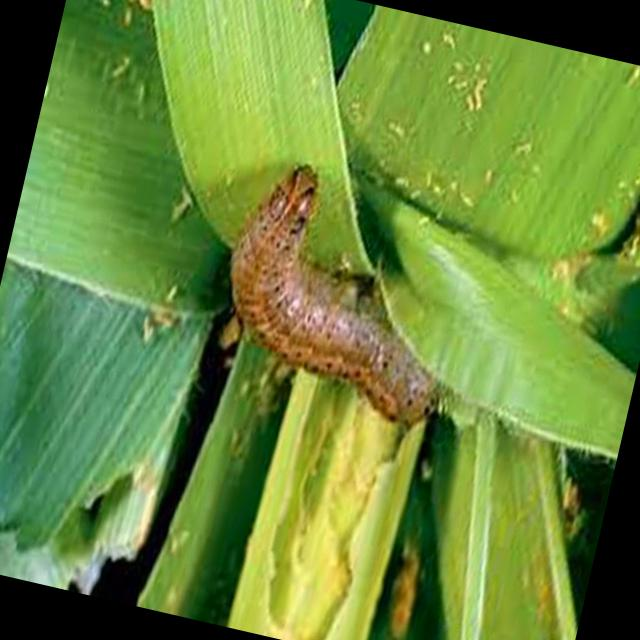pest: (215, 169, 475, 440)
